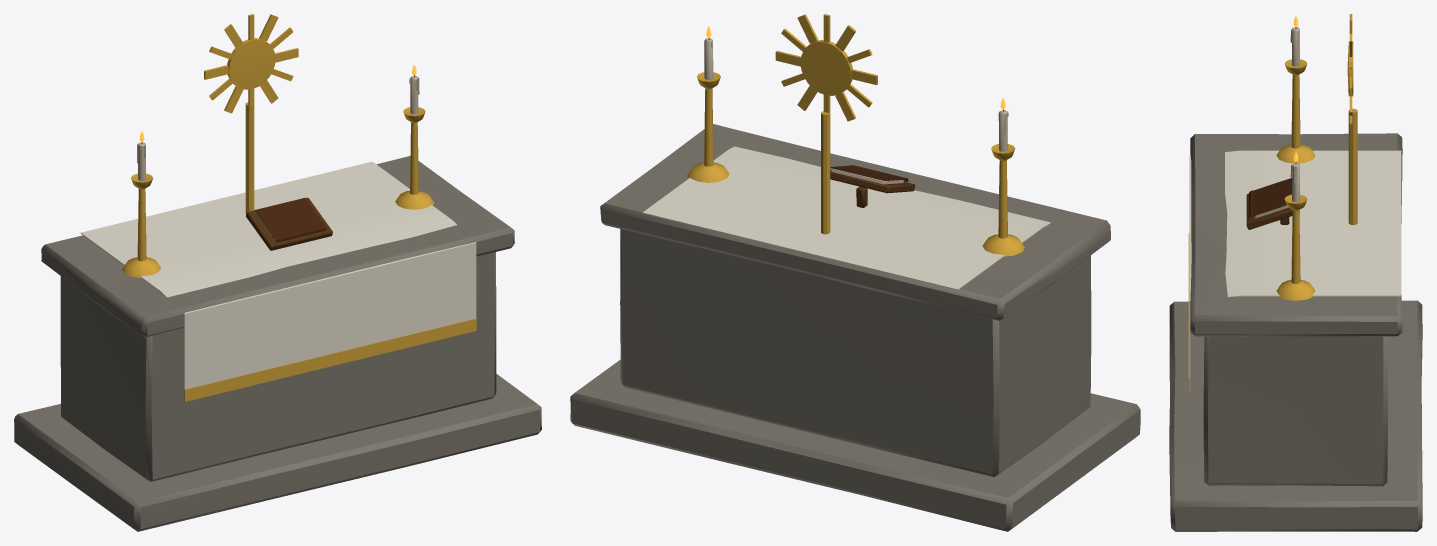
Rendered from altar.glb.
3 views of the same model, side by side, from view 1: azimuth 30°, elevation 25°; view 2: azimuth 150°, elevation 25°; view 3: azimuth 270°, elevation 25° (orthographic). The views are drawn at different scales.
Visible parts, largest first — view 1: altar; view 2: altar; view 3: altar.
Part boxes in pixels (x1,y1,x2,y2): altar: (14,14,541,531); altar: (570,14,1140,531); altar: (1169,14,1422,531).
Bounding box in the file's own units: 2.1 × 1.99 × 1.11.
